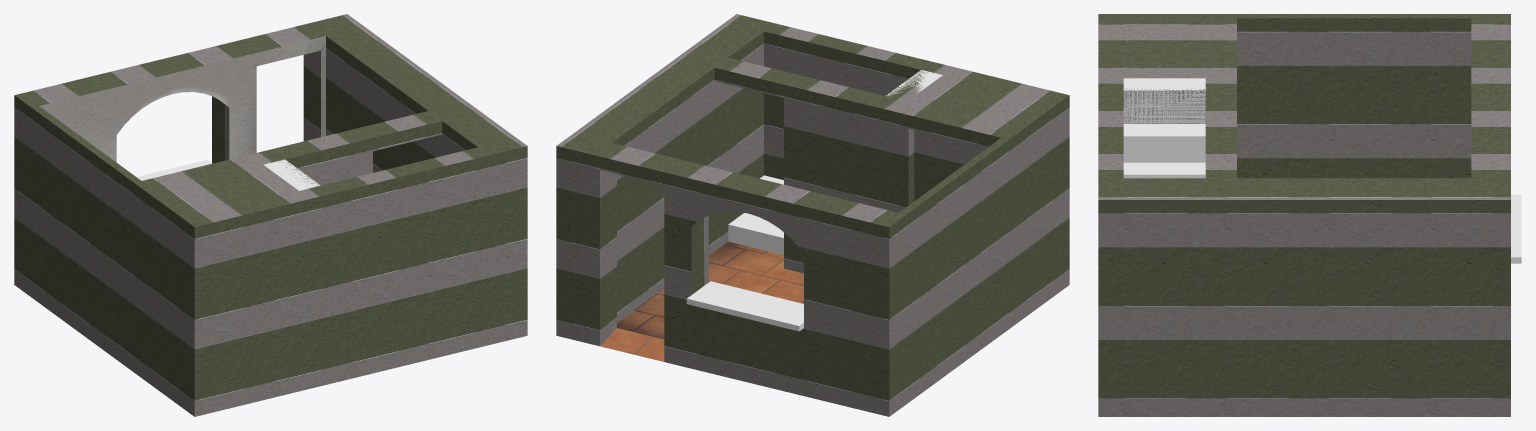
The model's file is ApothecaryShop_2.fbx.
3 views of the same model, side by side, from view 1: azimuth 30°, elevation 25°; view 2: azimuth 150°, elevation 25°; view 3: azimuth 270°, elevation 25° (orthographic). The views are drawn at different scales.
Visible parts, largest first — view 1: OuterShell, Group1; view 2: OuterShell, Group3, Group2, Group1; view 3: OuterShell, Group1, Group2.
Part boxes in pixels (left/top/right/bottom): OuterShell: left=14, top=14, right=527, bottom=416; Group1: left=263, top=159, right=320, bottom=190; OuterShell: left=556, top=14, right=1069, bottom=416; Group3: left=600, top=241, right=803, bottom=361; Group2: left=686, top=281, right=803, bottom=331; Group1: left=728, top=70, right=942, bottom=254; OuterShell: left=1098, top=14, right=1510, bottom=416; Group1: left=1123, top=78, right=1205, bottom=178; Group2: left=1511, top=194, right=1521, bottom=263.
Bounding box in the file's own units: 3.86 × 2.1 × 3.71.
